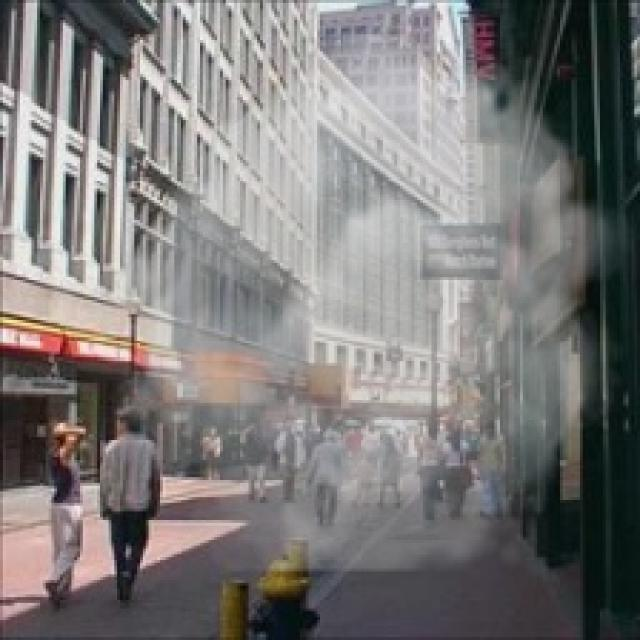smoke: (91, 34, 634, 572)
